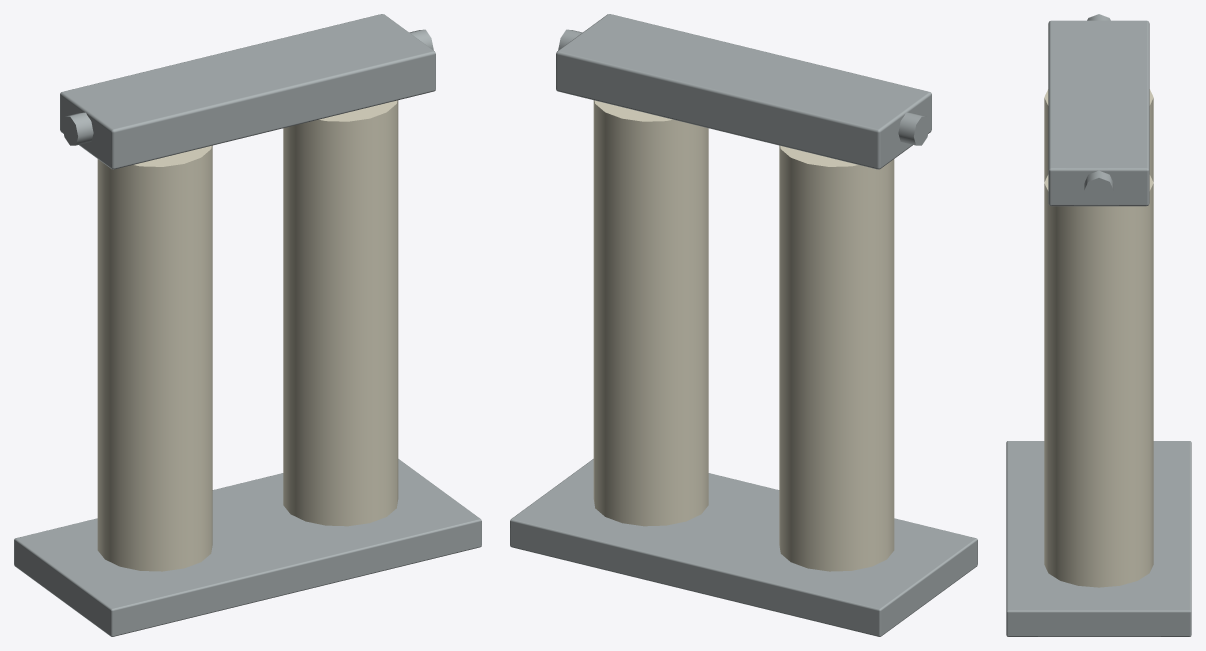
The model's file is water-collection-and-purification-twin-cartridge-filte-977fa1c8__20189.glb.
The picture shows the model from 3 angles, left to right: view 1: azimuth 30°, elevation 25°; view 2: azimuth 150°, elevation 25°; view 3: azimuth 270°, elevation 25°; orthographic projection. The views are drawn at different scales.
Parts seen in each view (by area): view 1: twin-cartridge-filter; view 2: twin-cartridge-filter; view 3: twin-cartridge-filter.
Boxes of the visible parts, x1,y1,x2,y2 form: twin-cartridge-filter: [14, 14, 481, 636]; twin-cartridge-filter: [510, 14, 977, 636]; twin-cartridge-filter: [1006, 14, 1191, 636].
Size of the model in its own units: 0.48 by 0.6 by 0.22.
